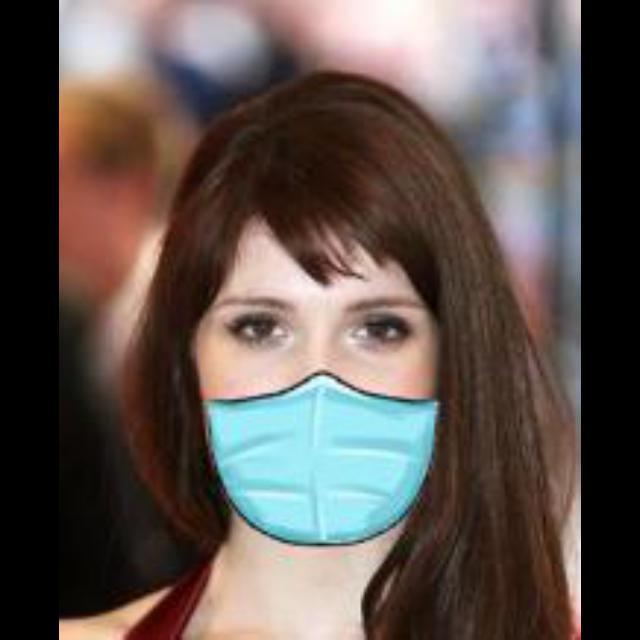suspicion: (172, 164, 436, 536)
